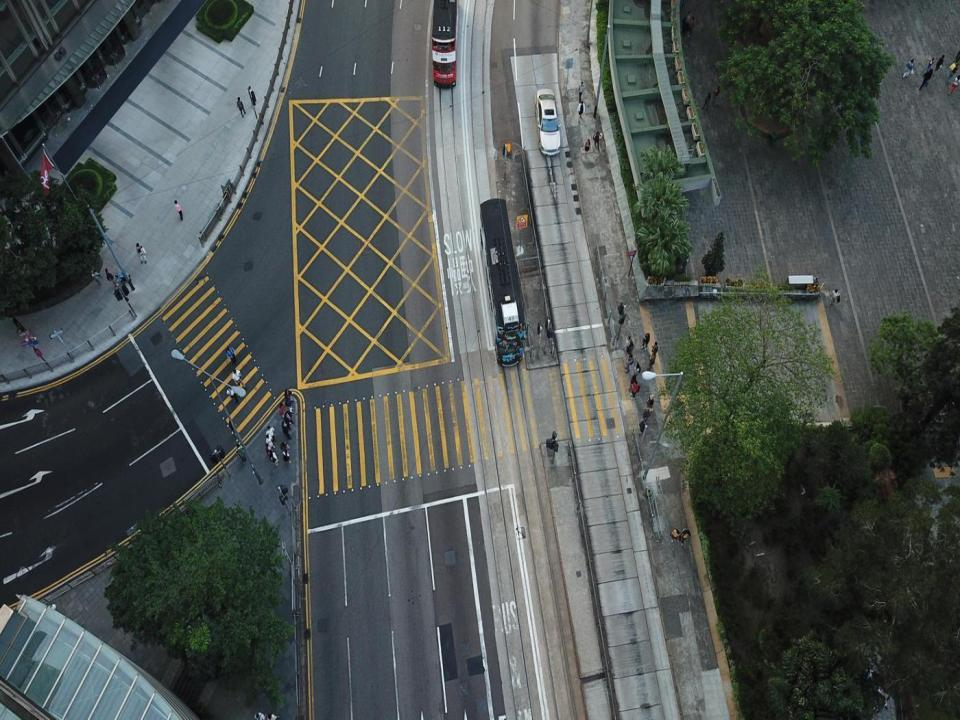bus: (480, 197, 526, 366), (432, 1, 458, 89)
car: (535, 88, 561, 154)
